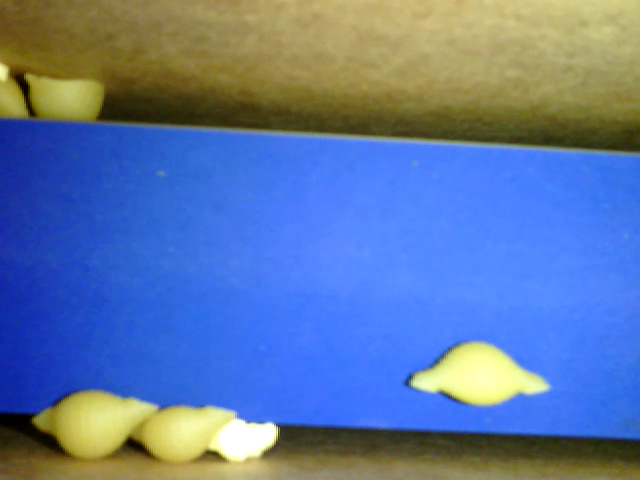shell: (409, 338, 556, 409), (33, 390, 160, 462), (129, 398, 236, 464), (23, 70, 105, 125)
